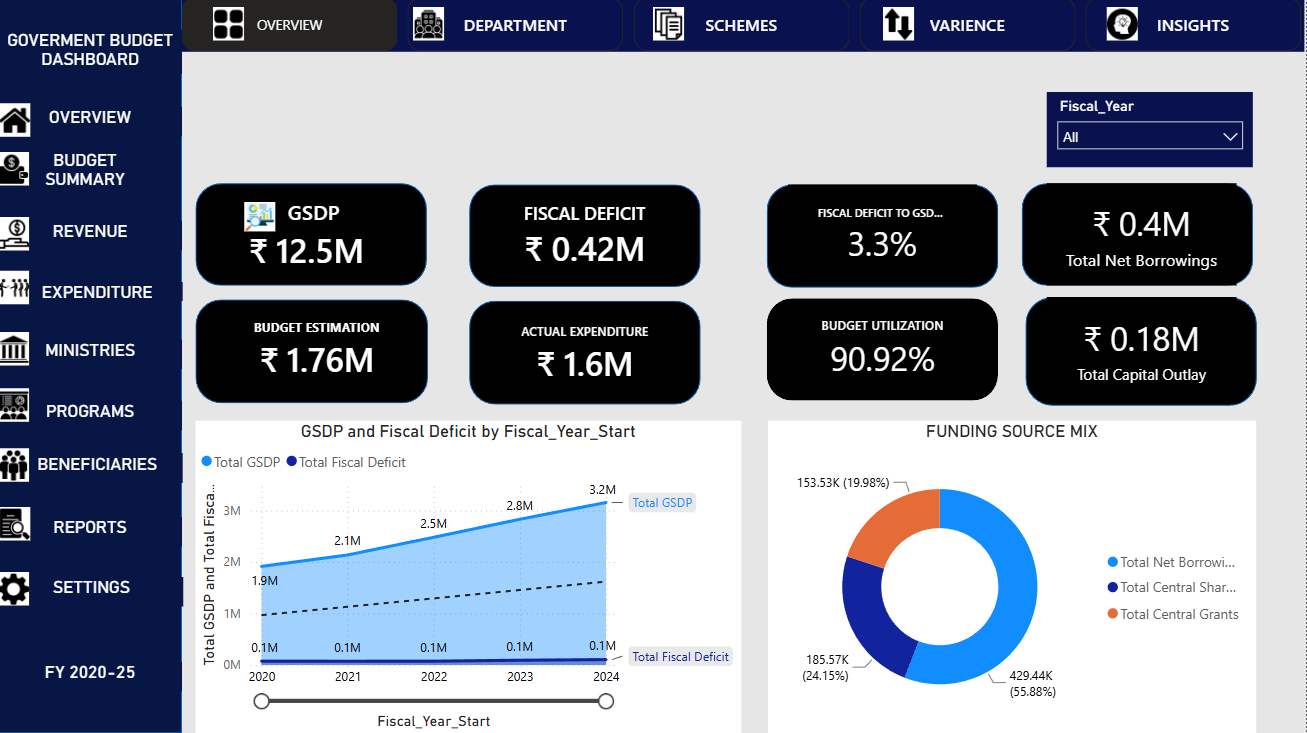

Layout of this report page (visuals, bound fields, positions):
{"tool":"powerbi","page":{"name":"OVERVIEW","canvas":[1280,720],"ordinal":0},"visuals":[{"type":"shape","box":[1005.2,293.5,226.2,106.4],"z":2},{"type":"shape","box":[752,294.7,226.2,100.3],"z":3},{"type":"shape","box":[461,297.1,226.2,101.5],"z":4},{"type":"shape","box":[193.2,295.9,227.4,101.5],"z":5},{"type":"shape","box":[193.2,182.2,226.2,100.3],"z":6},{"type":"shape","box":[1001.5,182.2,226.2,100.3],"z":7},{"type":"shape","box":[751.7,183.2,226.5,101],"z":8},{"type":"shape","box":[461,183.4,226.2,100.3],"z":9},{"type":"cardVisual","fields":{"Data":["MEASURE 1.Total GSDP"]},"box":[217,182.2,185.9,100.3],"z":10},{"type":"cardVisual","fields":{"Data":["MEASURE 1.Total Fiscal Deficit"]},"box":[480.6,183.4,187.1,100.3],"z":11},{"type":"cardVisual","fields":{"Data":["MEASURE 1.Total Budget Estimate"]},"box":[219.3,294.3,186.1,101],"z":12},{"type":"cardVisual","fields":{"Data":["MEASURE 1.Total Actual Expenditure"]},"box":[480.6,298.4,187.1,101.5],"z":13},{"type":"cardVisual","fields":{"Data":["MEASURE 1.Fiscal Deficit to GSDP %"]},"box":[773.3,183.2,184.7,99.6],"z":14},{"type":"cardVisual","fields":{"Data":["MEASURE 1.Budget Utilization %"]},"box":[772.8,292.3,185.9,102.7],"z":15},{"type":"card","fields":{"Values":["MEASURE 1.Total Net Borrowings"]},"box":[1026,182.2,185.9,100.3],"z":16},{"type":"card","fields":{"Values":["MEASURE 1.Total Capital Outlay"]},"box":[1026,293.5,185.9,102.7],"z":17},{"type":"donutChart","title":"FUNDING SOURCE MIX","fields":{"Y":["MEASURE 1.Total Net Borrowings","MEASURE 1.Total Central Share Taxes","MEASURE 1.Total Central Grants"]},"box":[753.1,414.1,477.6,305.9],"z":18},{"type":"areaChart","title":" GSDP and  Fiscal Deficit by Fiscal_Year_Start","fields":{"Category":["DIM_FISCAL_YEAR.Fiscal_Year_Start"],"Y":["MEASURE 1.Total GSDP","MEASURE 1.Total Fiscal Deficit"]},"box":[193.3,414.1,533.8,305.9],"z":19},{"type":"slicer","fields":{"Values":["DIM_FISCAL_YEAR.Fiscal_Year"]},"box":[1025.8,92.3,202,73.6],"z":20},{"type":"shape","box":[0,0,180,720.2],"z":21},{"type":"textbox","title":"GOVERMENT BUDGET DASHBOARD","box":[0,31.7,180.3,43.3],"z":22},{"type":"textbox","title":"OVERVIEW","box":[0,108.2,180.3,28.9],"z":23},{"type":"textbox","title":"      BUDGET SUMMARY","box":[15.9,148.6,138.5,39],"z":24},{"type":"textbox","title":"REVENUE","box":[0,219.3,180.3,28.9],"z":25},{"type":"textbox","title":"SETTINGS","box":[1.4,567,180.3,28.9],"z":26},{"type":"textbox","title":"REPORTS","box":[0,509.3,180.3,28.9],"z":27},{"type":"textbox","title":"BENEFICIARIES","box":[13,445.8,167.4,28.9],"z":28},{"type":"textbox","title":"PROGRAMS","box":[0,395.3,180.3,28.9],"z":29},{"type":"textbox","title":"MINISTRIES","box":[0,334.7,180.3,28.9],"z":30},{"type":"textbox","title":"EXPENDITURE","box":[13,278.5,167.4,18.8],"z":31},{"type":"textbox","title":"FY 2020-25   ","box":[0,650.7,180.3,28.9],"z":32},{"type":"pageNavigator","box":[180.3,0,1099.4,53.4],"z":33},{"type":"image","box":[210.6,10.1,30.3,33.2],"z":34},{"type":"image","box":[405.4,10.1,30.3,33.2],"z":35},{"type":"image","box":[640.6,10.1,30.3,33.2],"z":36},{"type":"image","box":[865.7,10.1,30.3,33.2],"z":37},{"type":"image","box":[1085,10.1,30.3,33.2],"z":38},{"type":"image","box":[1.4,103.9,30.3,33.2],"z":39},{"type":"image","box":[0,151.5,30.3,33.2],"z":40},{"type":"image","box":[0,215,30.3,33.2],"z":41},{"type":"image","box":[0,268.4,30.3,33.2],"z":42},{"type":"image","box":[0,327.5,30.3,33.2],"z":43},{"type":"image","box":[0,382.3,30.3,33.2],"z":44},{"type":"image","box":[0,441.5,30.3,33.2],"z":45},{"type":"image","box":[1.4,499.2,30.3,33.2],"z":46},{"type":"image","box":[0,562.7,30.3,33.2],"z":47},{"type":"image","box":[240.9,200.5,30.3,29],"z":48}]}

Visuals, with their boxes in screenshot pixels (x1, y1, x2, y2), scaled from the page's 1280x720 canvas onto the 1307x733 screenshot:
shape: box(1026, 299, 1257, 407)
shape: box(768, 300, 999, 402)
shape: box(471, 302, 702, 406)
shape: box(197, 301, 429, 405)
shape: box(197, 185, 428, 288)
shape: box(1023, 185, 1254, 288)
shape: box(768, 187, 999, 289)
shape: box(471, 187, 702, 289)
cardVisual - MEASURE 1.Total GSDP: box(222, 185, 411, 288)
cardVisual - MEASURE 1.Total Fiscal Deficit: box(491, 187, 682, 289)
cardVisual - MEASURE 1.Total Budget Estimate: box(224, 300, 414, 402)
cardVisual - MEASURE 1.Total Actual Expenditure: box(491, 304, 682, 407)
cardVisual - MEASURE 1.Fiscal Deficit to GSDP %: box(790, 187, 978, 288)
cardVisual - MEASURE 1.Budget Utilization %: box(789, 298, 979, 402)
card - MEASURE 1.Total Net Borrowings: box(1048, 185, 1237, 288)
card - MEASURE 1.Total Capital Outlay: box(1048, 299, 1237, 403)
"FUNDING SOURCE MIX" donutChart: box(769, 422, 1257, 732)
" GSDP and  Fiscal Deficit by Fiscal_Year_Start" areaChart: box(197, 422, 742, 732)
slicer - DIM_FISCAL_YEAR.Fiscal_Year: box(1047, 94, 1254, 169)
shape: box(0, 0, 184, 732)
"GOVERMENT BUDGET DASHBOARD" textbox: box(0, 32, 184, 76)
"OVERVIEW" textbox: box(0, 110, 184, 140)
"      BUDGET SUMMARY" textbox: box(16, 151, 158, 191)
"REVENUE" textbox: box(0, 223, 184, 253)
"SETTINGS" textbox: box(1, 577, 186, 607)
"REPORTS" textbox: box(0, 518, 184, 548)
"BENEFICIARIES" textbox: box(13, 454, 184, 483)
"PROGRAMS" textbox: box(0, 402, 184, 432)
"MINISTRIES" textbox: box(0, 341, 184, 370)
"EXPENDITURE" textbox: box(13, 284, 184, 303)
"FY 2020-25   " textbox: box(0, 662, 184, 692)
pageNavigator: box(184, 0, 1306, 54)
image: box(215, 10, 246, 44)
image: box(414, 10, 445, 44)
image: box(654, 10, 685, 44)
image: box(884, 10, 915, 44)
image: box(1108, 10, 1139, 44)
image: box(1, 106, 32, 140)
image: box(0, 154, 31, 188)
image: box(0, 219, 31, 253)
image: box(0, 273, 31, 307)
image: box(0, 333, 31, 367)
image: box(0, 389, 31, 423)
image: box(0, 449, 31, 483)
image: box(1, 508, 32, 542)
image: box(0, 573, 31, 607)
image: box(246, 204, 277, 234)
